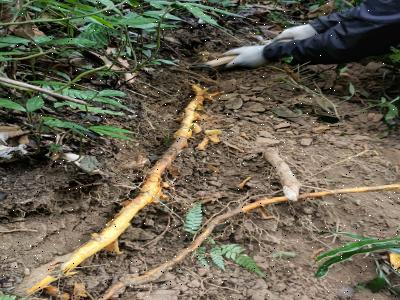Root: (98, 147, 400, 300), (26, 86, 206, 294)
